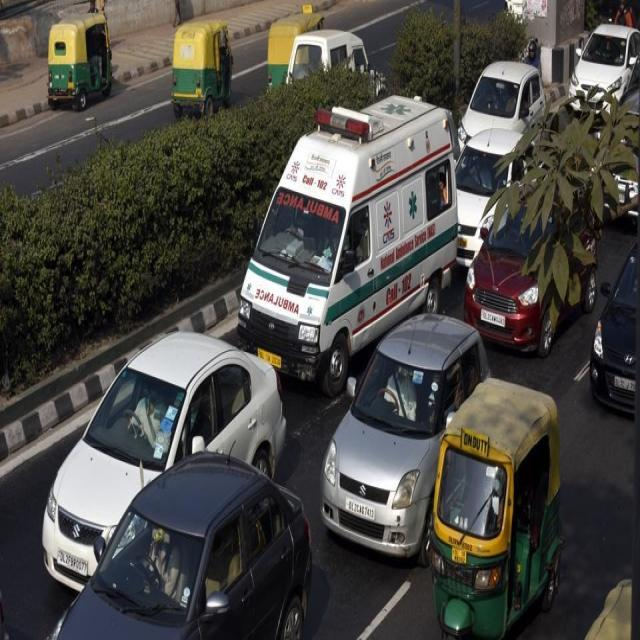Ambulance: (233, 84, 457, 373)
